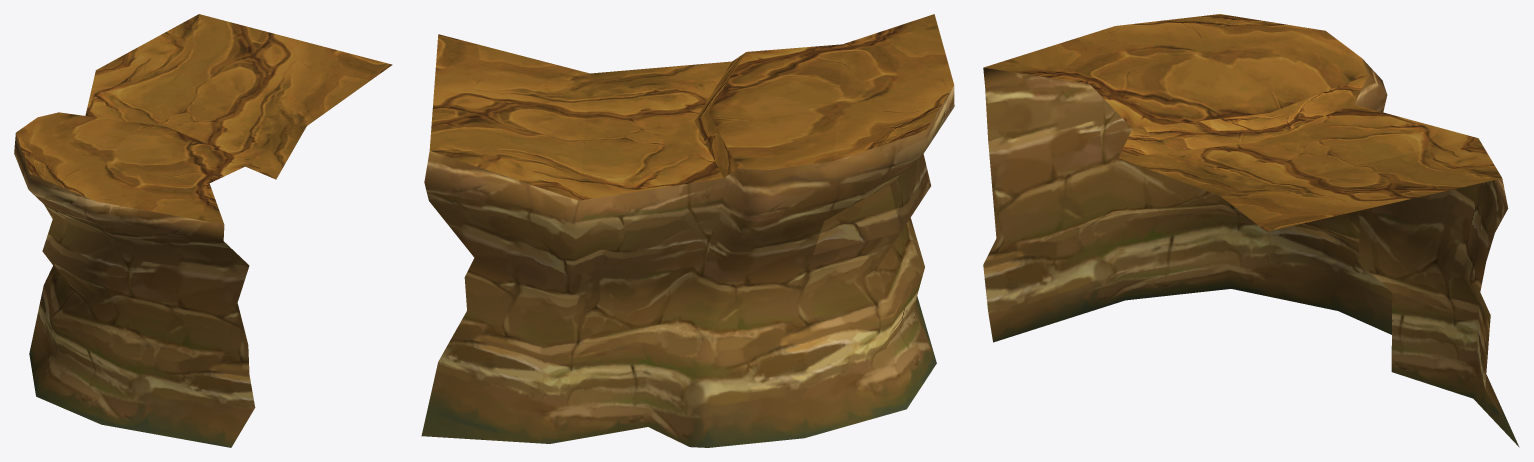
The model's file is SM_Stone_03.fbx.
3 views of the same model, side by side, from view 1: azimuth 30°, elevation 25°; view 2: azimuth 150°, elevation 25°; view 3: azimuth 270°, elevation 25° (orthographic). The views are drawn at different scales.
Parts seen in each view (by area): view 1: SM_Stone_03; view 2: SM_Stone_03; view 3: SM_Stone_03.
Boxes of the visible parts, x1,y1,x2,y2 form: SM_Stone_03: [14, 14, 392, 447]; SM_Stone_03: [421, 14, 954, 447]; SM_Stone_03: [983, 14, 1519, 447].
Size of the model in its own units: 2438 by 1400 by 2521.
